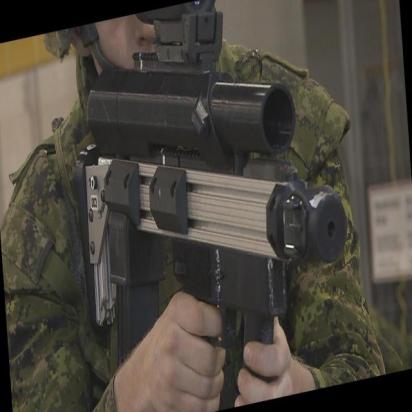Gun: (74, 66, 346, 335)
